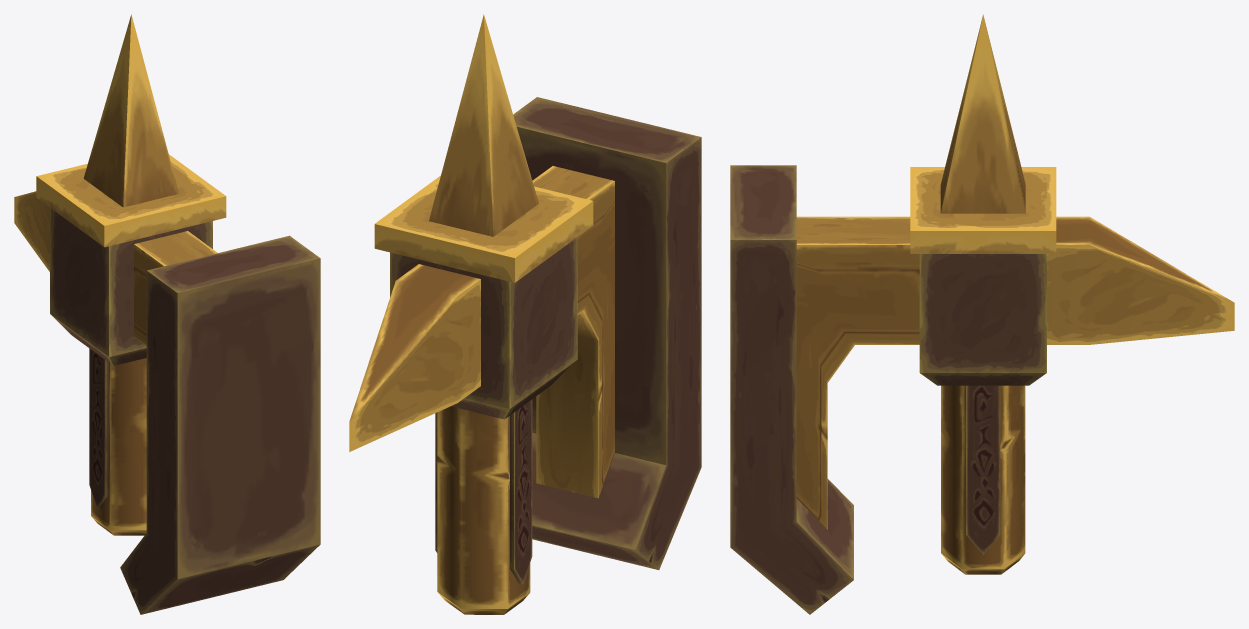
Rendered from SM_WEP_head_hammer_battle_03.fbx.
The picture shows the model from 3 angles, left to right: view 1: azimuth 30°, elevation 25°; view 2: azimuth 150°, elevation 25°; view 3: azimuth 270°, elevation 25°; orthographic projection. The views are drawn at different scales.
Parts seen in each view (by area): view 1: SM_WEP_head_hammer_battle_03; view 2: SM_WEP_head_hammer_battle_03; view 3: SM_WEP_head_hammer_battle_03.
Part boxes in pixels (x1,y1,x2,y2): SM_WEP_head_hammer_battle_03: (14, 14, 320, 614); SM_WEP_head_hammer_battle_03: (349, 14, 701, 614); SM_WEP_head_hammer_battle_03: (730, 14, 1234, 614).
Size of the model in its own units: 14.79 by 51.87 by 42.06.
